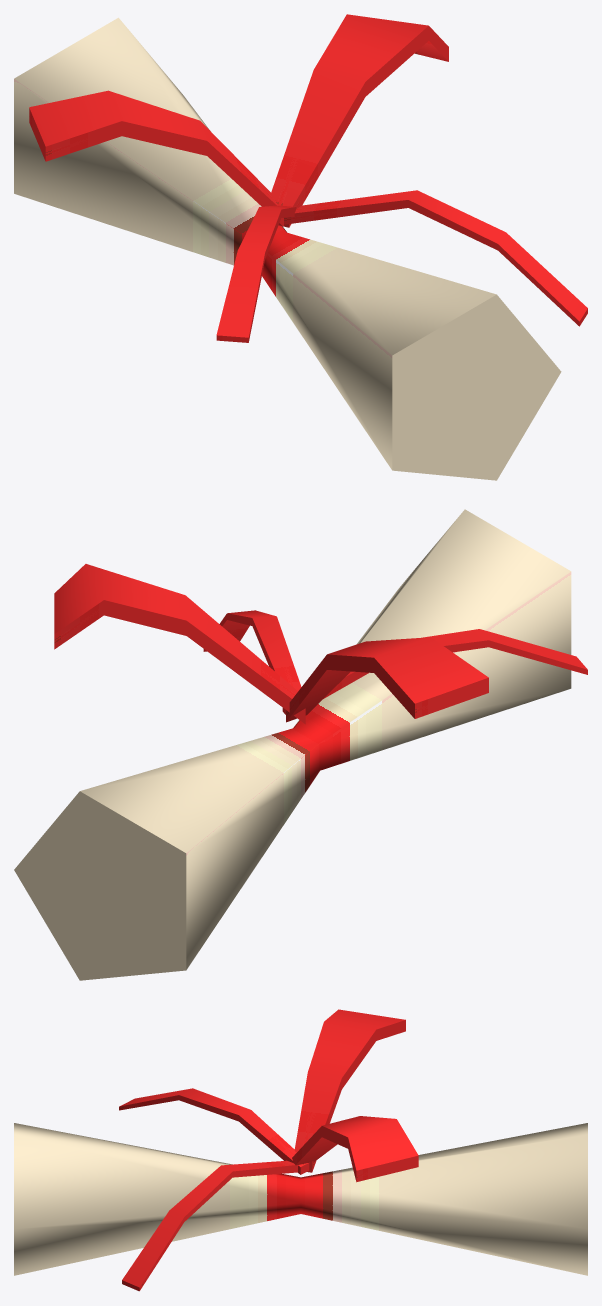
Rendered from letter.fbx.
The picture shows the model from 3 angles, top to bottom: view 1: azimuth 30°, elevation 25°; view 2: azimuth 150°, elevation 25°; view 3: azimuth 270°, elevation 25°; orthographic projection. The views are drawn at different scales.
Parts seen in each view (by area): view 1: letter; view 2: letter; view 3: letter.
Part boxes in pixels (x1,y1,x2,y2): letter: [14, 14, 587, 480]; letter: [14, 509, 587, 980]; letter: [14, 1009, 587, 1291].
Bounding box in the file's own units: 0.6253 × 0.3696 × 0.987.
1 material, 1 textured.
